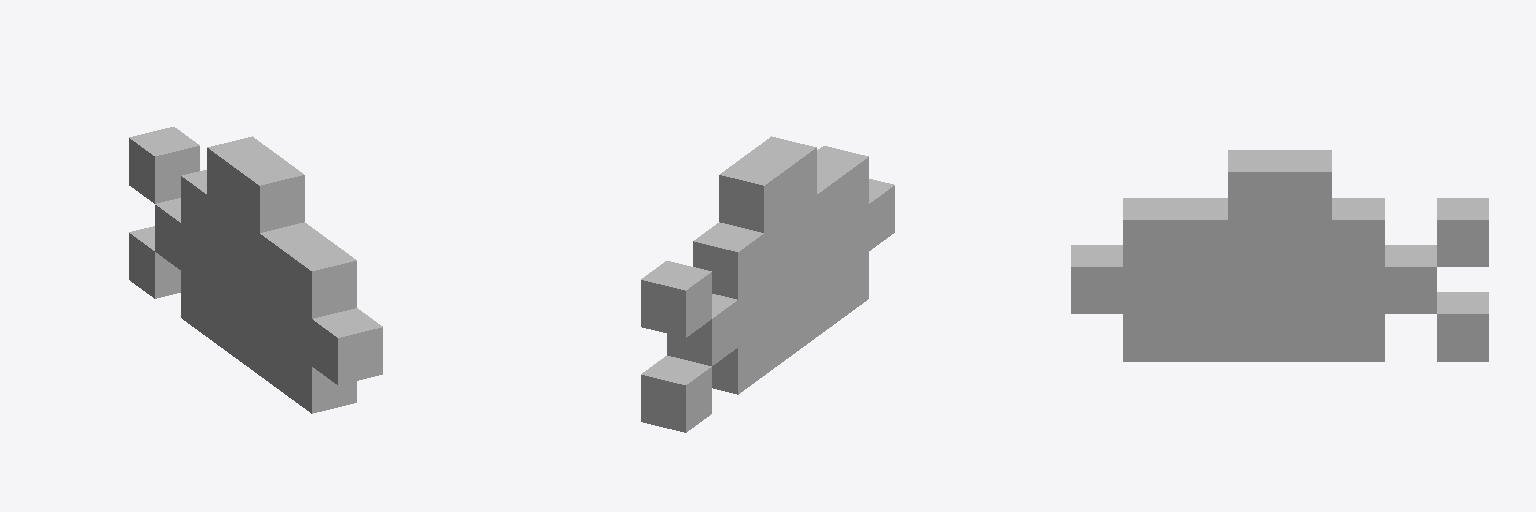
File: fish.obj
3 renders of one model, left to right at view 1: azimuth 30°, elevation 25°; view 2: azimuth 150°, elevation 25°; view 3: azimuth 270°, elevation 25°, orthographic.
Parts seen in each view (by area): view 1: object 1; view 2: object 1; view 3: object 1.
Part boxes in pixels (left/top/right/bottom): object 1: left=129, top=127, right=382, bottom=413; object 1: left=641, top=136, right=894, bottom=432; object 1: left=1071, top=150, right=1488, bottom=361.
Size of the model in its own units: 0.1 by 0.4 by 0.8.